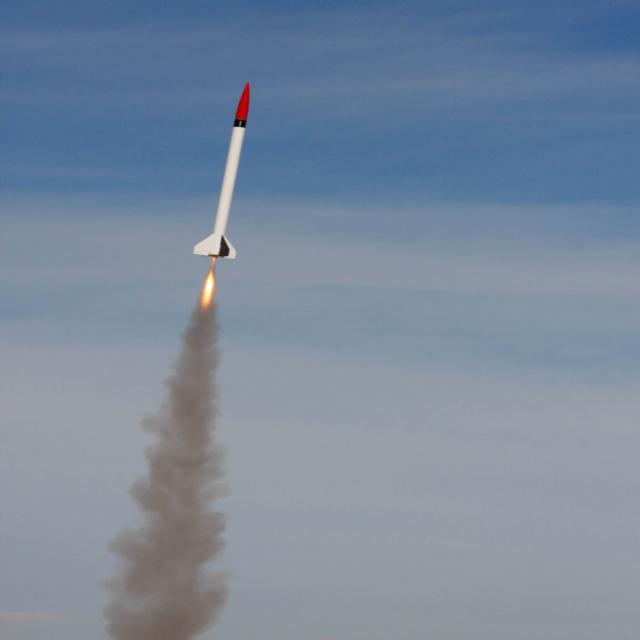Rocket: (192, 80, 252, 260)
